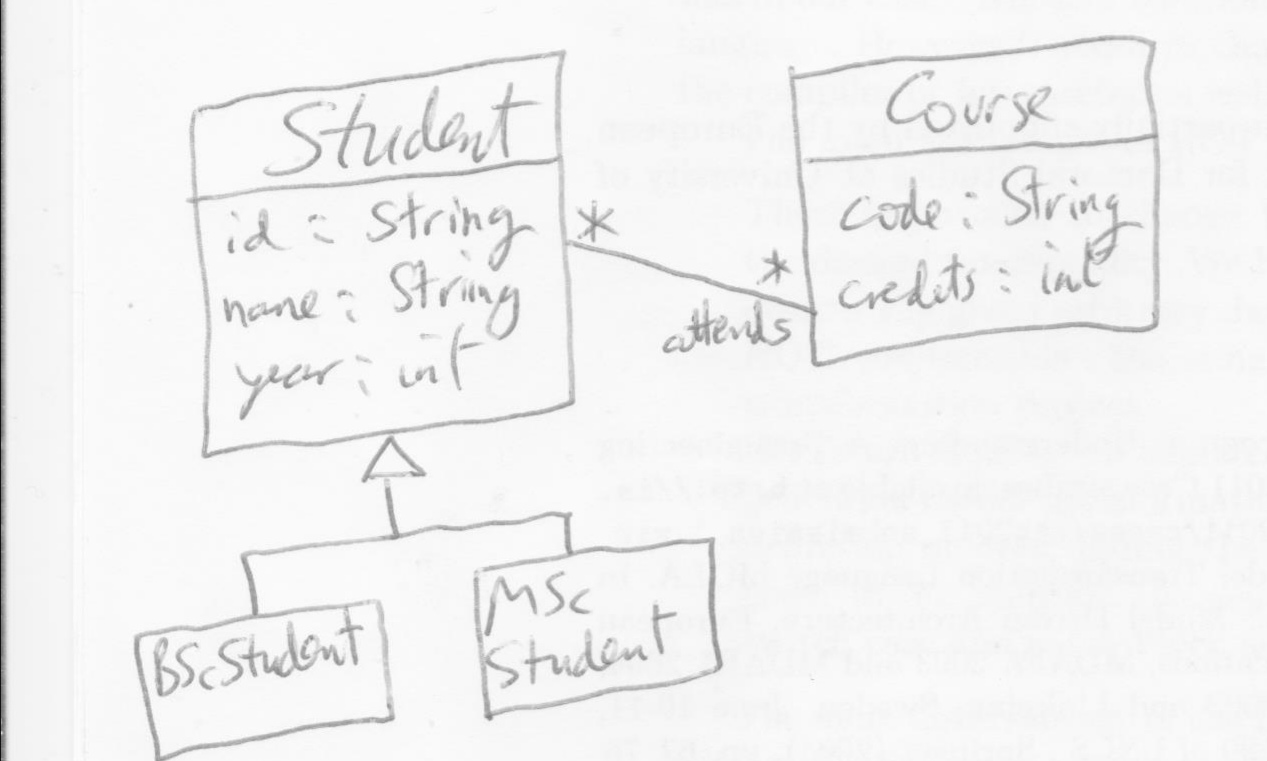association: (561, 197, 811, 356)
class attributes: (185, 46, 583, 458), (787, 32, 1165, 373)
inheritance: (236, 429, 584, 625)
simple class: (470, 532, 725, 720), (131, 596, 399, 761)
